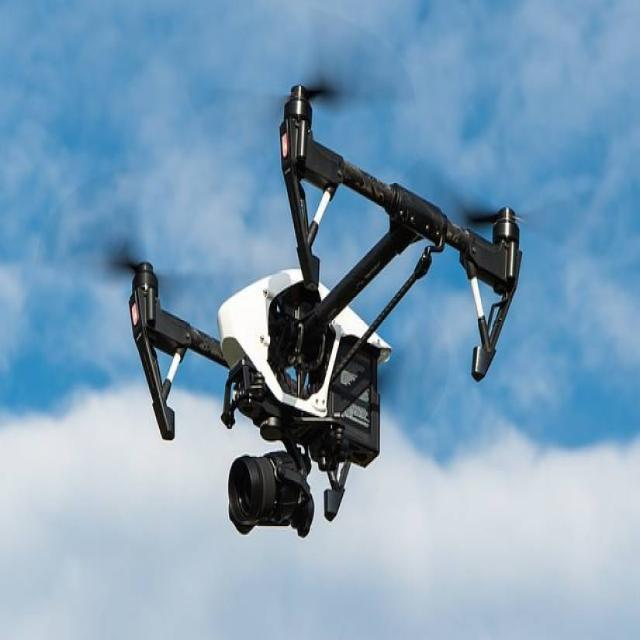drone: (92, 69, 536, 503)
